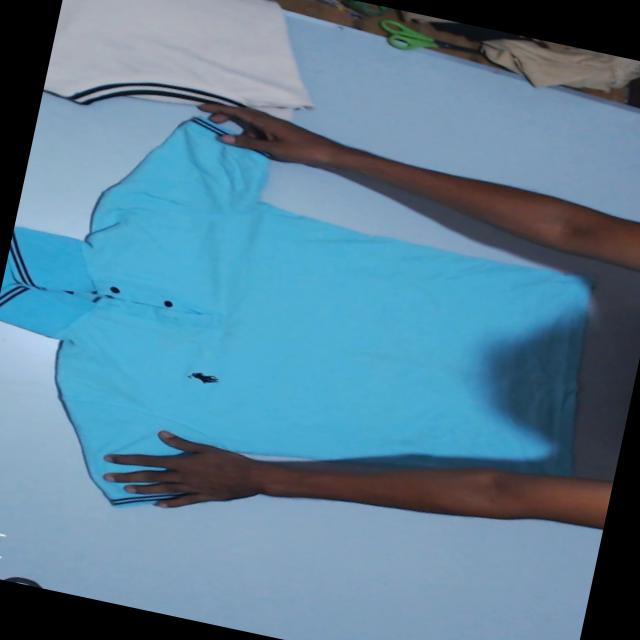new-garment: (0, 118, 590, 506)
